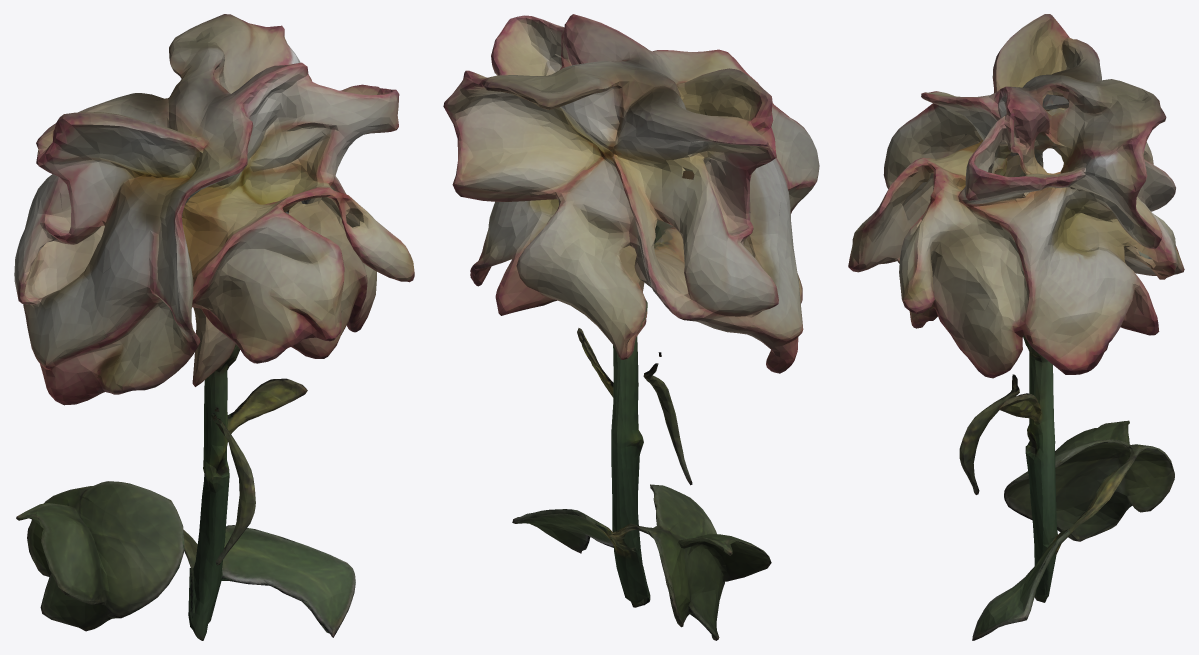
3 views of the same model, side by side, from view 1: azimuth 30°, elevation 25°; view 2: azimuth 150°, elevation 25°; view 3: azimuth 270°, elevation 25° (orthographic). The views are drawn at different scales.
Visible parts, largest first — view 1: world; view 2: world; view 3: world.
Part boxes in pixels (x1,y1,x2,y2): world: (14, 14, 414, 640); world: (443, 14, 819, 640); world: (848, 14, 1184, 640).
Bounding box in the file's own units: 0.582 × 0.9657 × 0.5464.
Materials: 1 (1 with a texture image).
